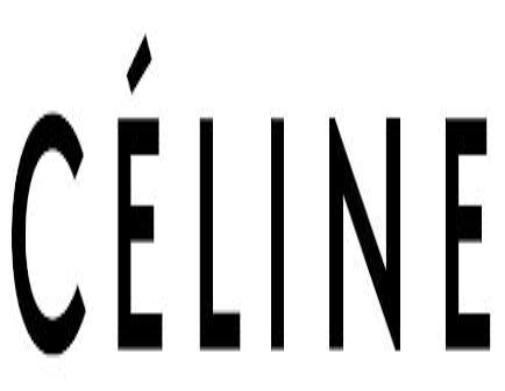CELINE: (44, 225, 251, 391)
